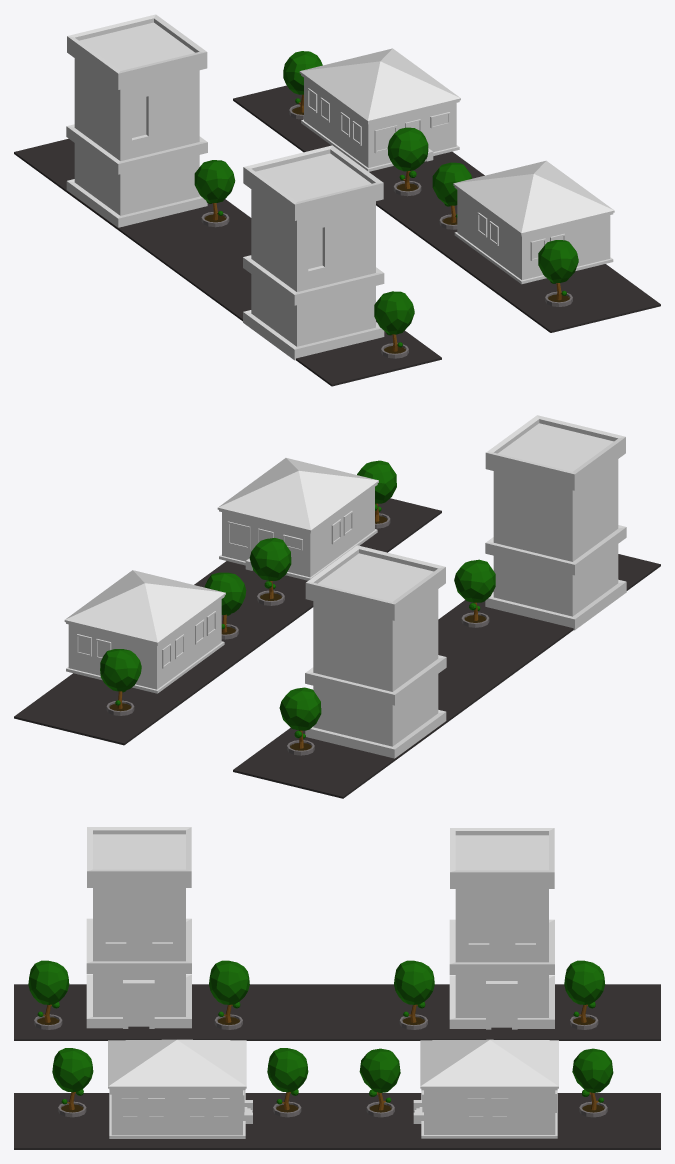
File: taemplate_b_003.fbx
The picture shows the model from 3 angles, top to bottom: view 1: azimuth 30°, elevation 25°; view 2: azimuth 150°, elevation 25°; view 3: azimuth 270°, elevation 25°; orthographic projection.
Visible parts, largest first — view 1: house.009, house.011, Cube.004, Cube.003, house.010, house.012, tree.023, tree.020, tree.018, tree.022, tree.021, tree.024; view 2: house.009, house.011, Cube.003, Cube.004, house.012, house.010, tree.019, tree.017, tree.021, tree.024, tree.023, tree.022; view 3: Cube.003, Cube.004, house.009, house.011, house.012, house.010, tree.020, tree.019, tree.017, tree.018, tree.021, tree.022 (+2 smaller).
Part boxes in pixels (x1=…): house.009: x1=243, y1=145, x2=384, y2=360; house.011: x1=66, y1=14, x2=207, y2=227; Cube.004: x1=233, y1=85, x2=660, y2=332; Cube.003: x1=14, y1=138, x2=441, y2=386; house.010: x1=453, y1=160, x2=614, y2=284; house.012: x1=299, y1=48, x2=460, y2=171; tree.023: x1=387, y1=127, x2=428, y2=196; tree.020: x1=374, y1=291, x2=414, y2=358; tree.018: x1=194, y1=160, x2=235, y2=227; tree.022: x1=538, y1=240, x2=578, y2=306; tree.021: x1=432, y1=162, x2=471, y2=229; tree.024: x1=283, y1=51, x2=322, y2=119; house.009: x1=485, y1=415, x2=626, y2=630; house.011: x1=305, y1=545, x2=446, y2=758; Cube.003: x1=233, y1=554, x2=660, y2=798; Cube.004: x1=14, y1=498, x2=441, y2=745; house.012: x1=64, y1=570, x2=225, y2=693; house.010: x1=217, y1=458, x2=378, y2=580; tree.019: x1=279, y1=687, x2=321, y2=755; tree.017: x1=454, y1=559, x2=495, y2=627; tree.021: x1=249, y1=538, x2=291, y2=605; tree.024: x1=100, y1=649, x2=141, y2=715; tree.023: x1=204, y1=572, x2=246, y2=639; tree.022: x1=357, y1=460, x2=396, y2=528; Cube.003: x1=14, y1=984, x2=660, y2=1040; Cube.004: x1=14, y1=1093, x2=660, y2=1149; house.009: x1=86, y1=827, x2=191, y2=1028; house.011: x1=449, y1=828, x2=554, y2=1029; house.012: x1=413, y1=1039, x2=558, y2=1138; house.010: x1=108, y1=1039, x2=252, y2=1138; tree.020: x1=28, y1=960, x2=69, y2=1029; tree.019: x1=564, y1=960, x2=605, y2=1029; tree.017: x1=209, y1=960, x2=249, y2=1029; tree.018: x1=394, y1=960, x2=434, y2=1029; tree.021: x1=267, y1=1048, x2=308, y2=1117; tree.022: x1=52, y1=1048, x2=93, y2=1117.
Size of the model in its own units: 894 by 403 by 1489.
